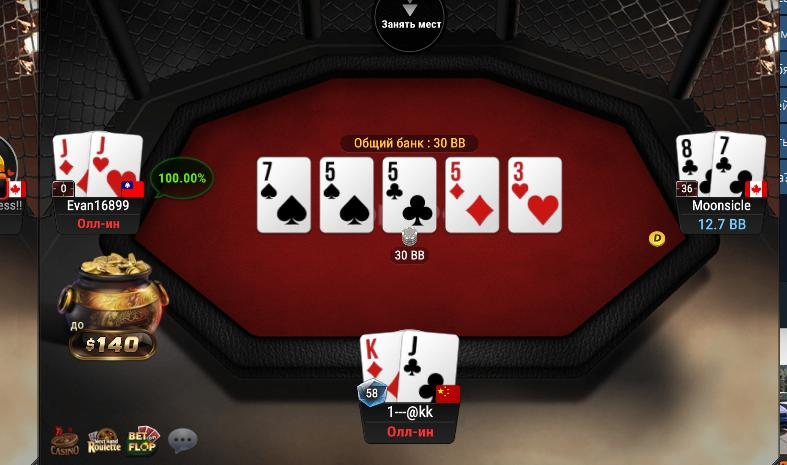3h: (509, 158, 563, 232)
5c: (384, 157, 434, 234)
5d: (446, 158, 502, 232)
5s: (320, 157, 374, 233)
7c: (713, 130, 766, 198)
7s: (257, 159, 312, 232)
8c: (676, 133, 714, 197)
Jc: (399, 329, 457, 401)
Jd: (49, 132, 90, 198)
Jh: (89, 129, 143, 198)
Kd: (359, 335, 401, 402)
